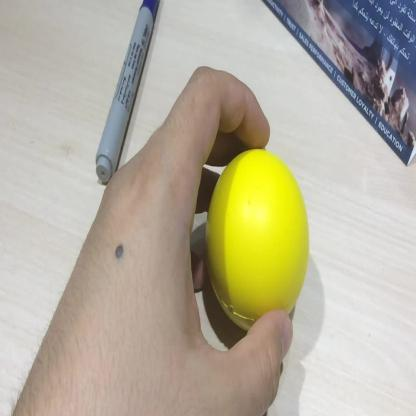Ball: (206, 146, 309, 333)
